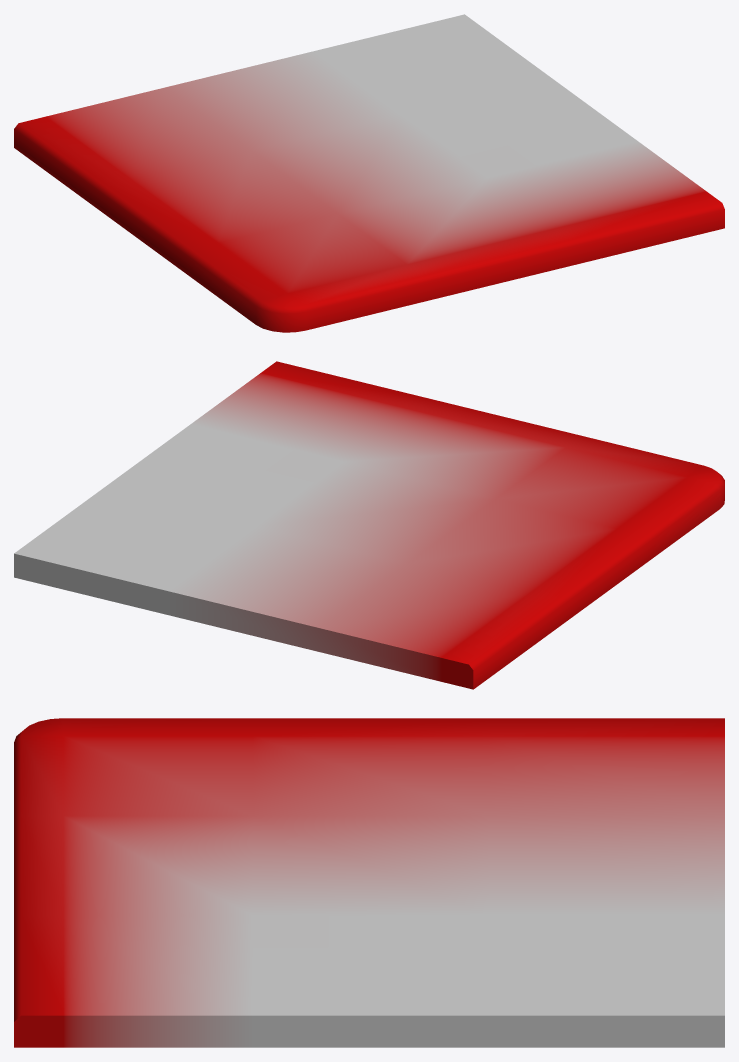
Rendered from Sidewalk_Corner_Flat_3m.gltf.
3 views of the same model, one above another, from view 1: azimuth 30°, elevation 25°; view 2: azimuth 150°, elevation 25°; view 3: azimuth 270°, elevation 25° (orthographic). The views are drawn at different scales.
Visible parts, largest first — view 1: Sidewalk_Corner_Flat_3m; view 2: Sidewalk_Corner_Flat_3m; view 3: Sidewalk_Corner_Flat_3m.
Boxes of the visible parts, box(x1,y1,x2,y2) form: Sidewalk_Corner_Flat_3m: box(14, 14, 724, 332); Sidewalk_Corner_Flat_3m: box(14, 361, 724, 689); Sidewalk_Corner_Flat_3m: box(14, 718, 724, 1047).
Size of what is drawn, in the model's own units: 3.01 by 0.15 by 3.01.
